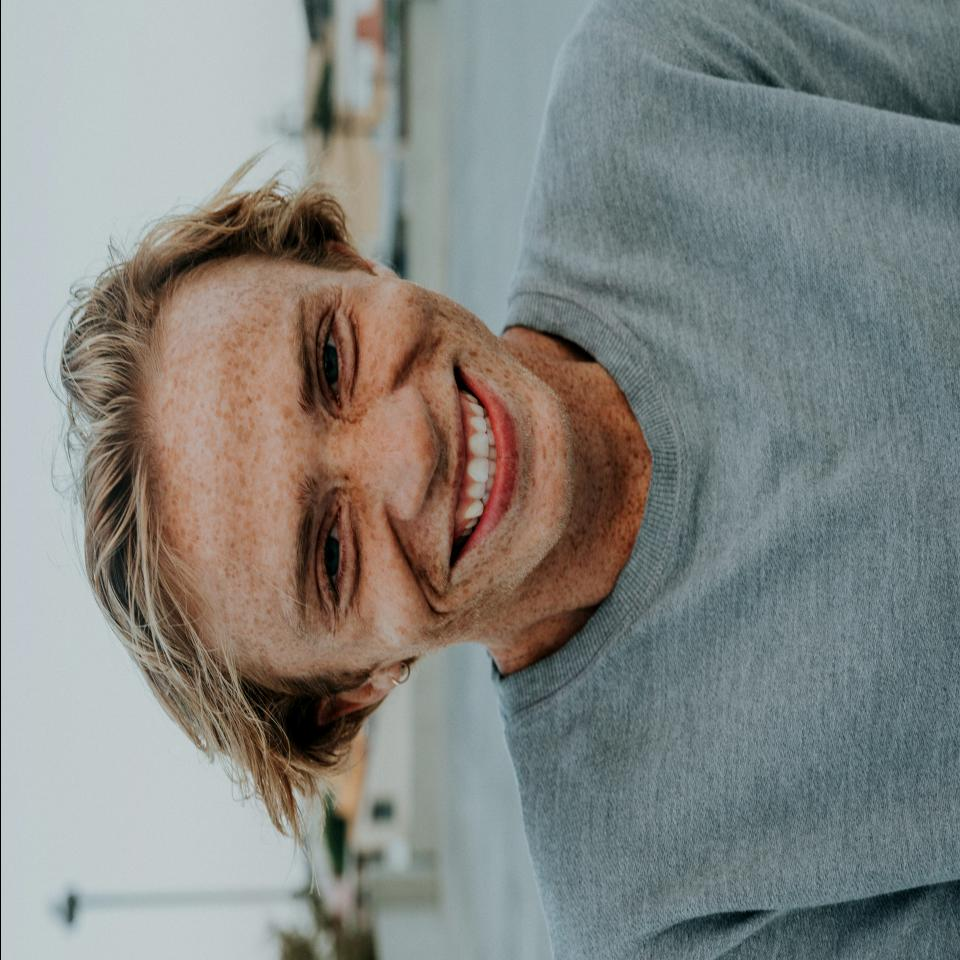Happiness: (172, 264, 570, 682)
